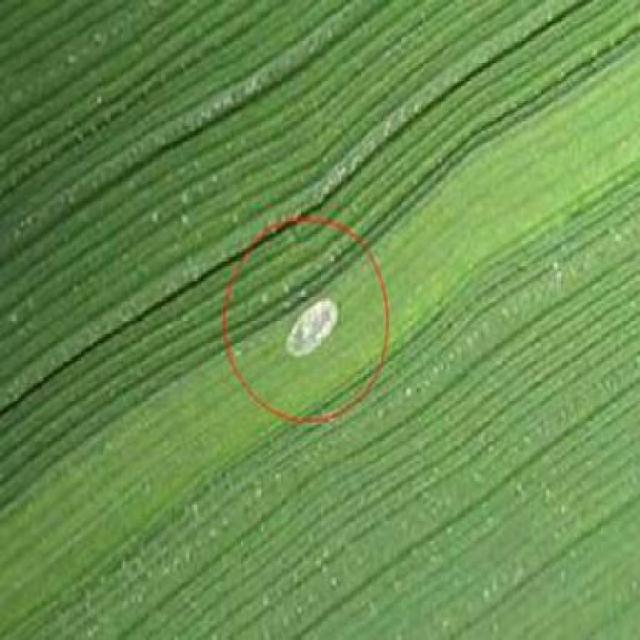leaf-folder: (276, 283, 346, 368)
